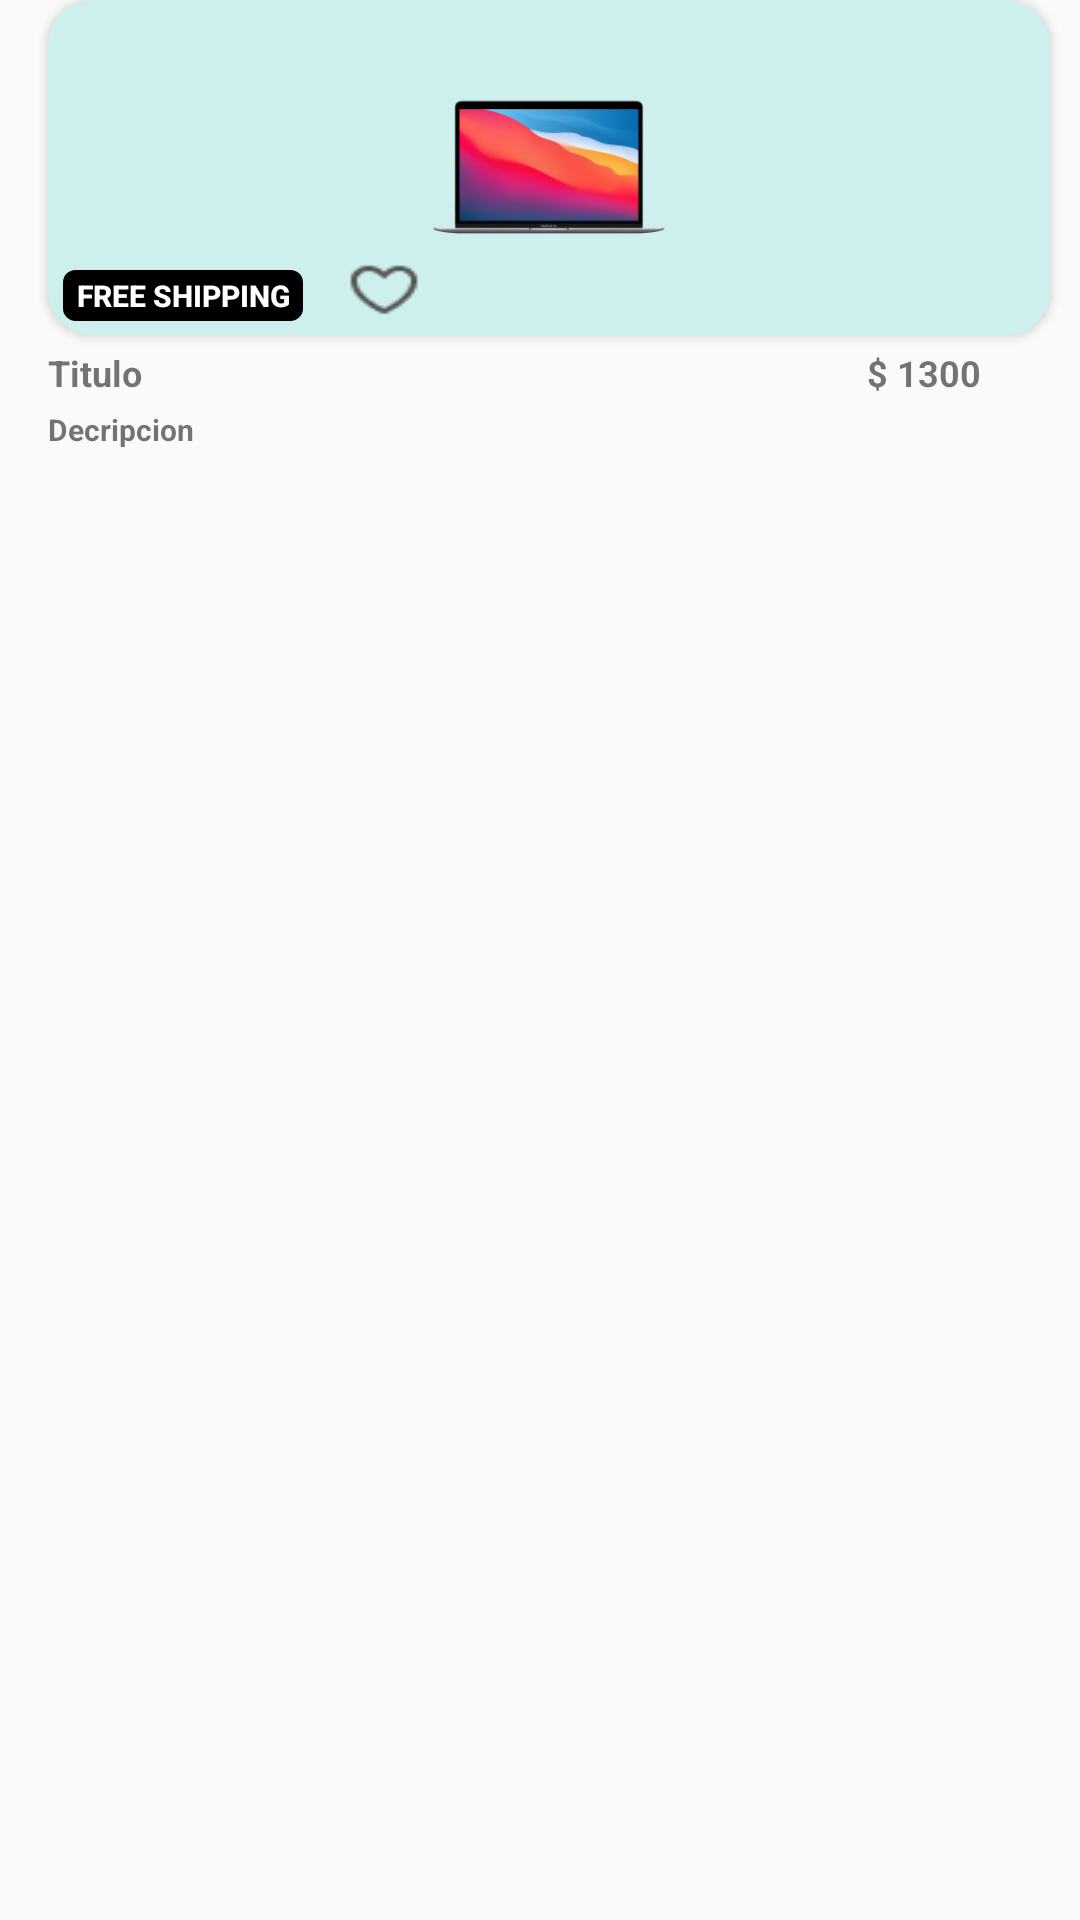

Icons on this 1080×1920 Android screen, each with its box as rect(x1, y1, x2, y2):
ilike: rect(350, 265, 418, 314)
macbook air: rect(433, 100, 665, 234)
